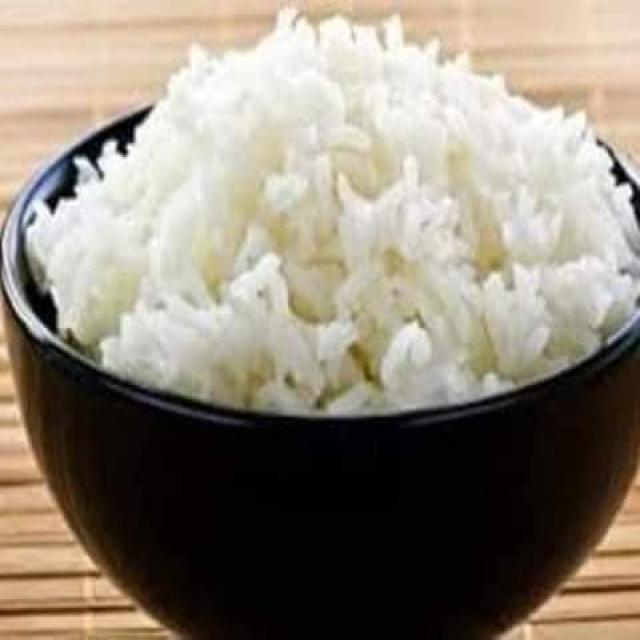Chicken -Chicken Inasal-: (108, 34, 586, 395)
